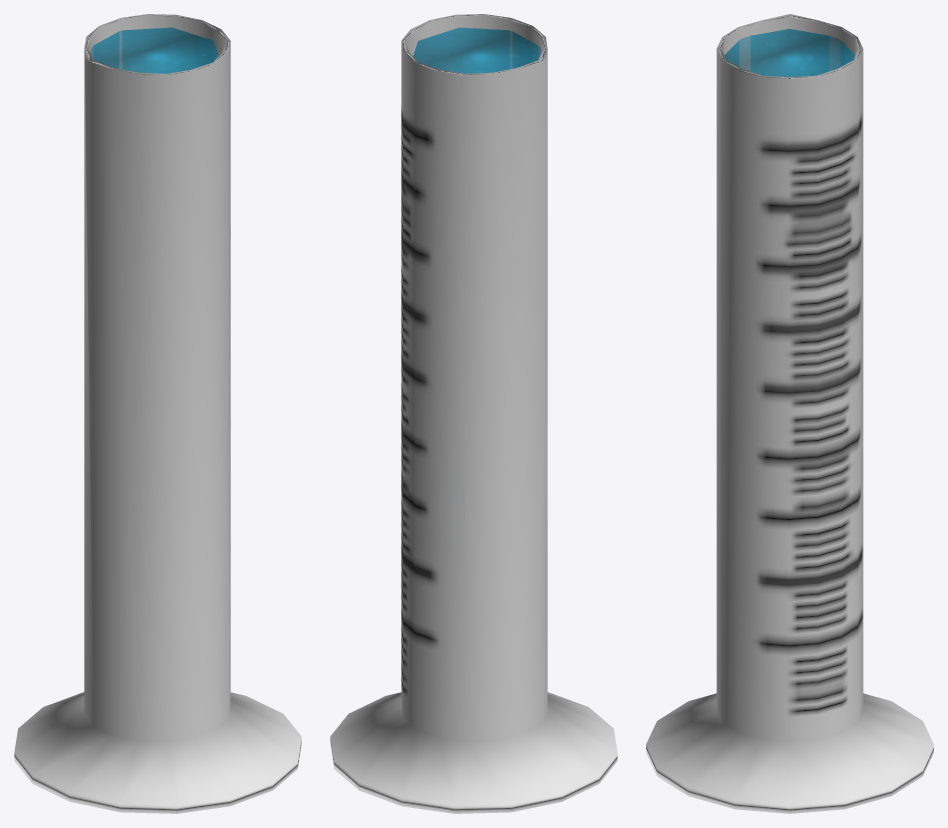
File: LabDesk_Object_GraduatedCylinderFull.fbx
3 renders of one model, left to right at view 1: azimuth 30°, elevation 25°; view 2: azimuth 150°, elevation 25°; view 3: azimuth 270°, elevation 25°, orthographic.
Visible parts, largest first — view 1: LabDesk_Object_GraduatedCylinderFill1, LabDesk_Object_GraduatedCylinderFillShape; view 2: LabDesk_Object_GraduatedCylinderFill1, LabDesk_Object_GraduatedCylinderFillShape; view 3: LabDesk_Object_GraduatedCylinderFill1, LabDesk_Object_GraduatedCylinderFillShape.
Boxes of the visible parts, <box> form: LabDesk_Object_GraduatedCylinderFill1: <box>14,14,301,813</box>; LabDesk_Object_GraduatedCylinderFillShape: <box>90,27,218,73</box>; LabDesk_Object_GraduatedCylinderFill1: <box>330,14,617,813</box>; LabDesk_Object_GraduatedCylinderFillShape: <box>413,27,541,73</box>; LabDesk_Object_GraduatedCylinderFill1: <box>646,14,933,813</box>; LabDesk_Object_GraduatedCylinderFillShape: <box>724,29,855,76</box>.
Size of the model in its own units: 5.11 by 13.8 by 5.11.
